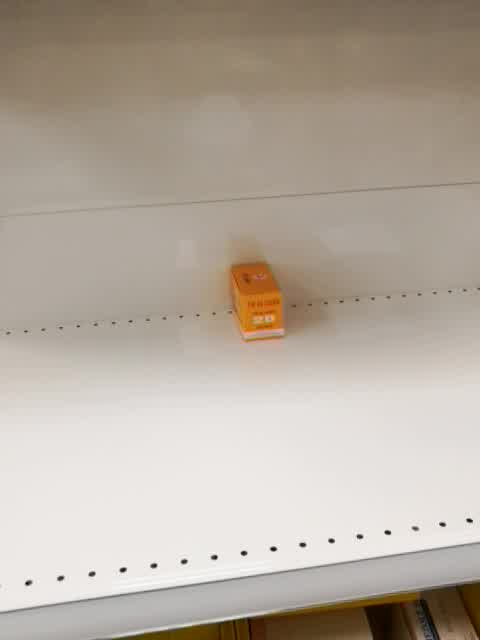jasminetea: (228, 260, 283, 342)
